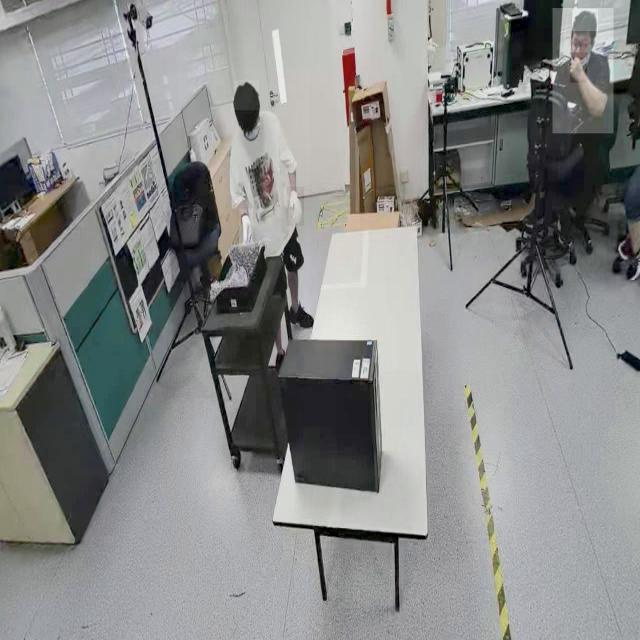hand_glove: (286, 186, 304, 226), (239, 209, 253, 254)
hand_noglove: (569, 52, 587, 84)
head_nohelmet: (233, 80, 259, 111), (572, 9, 598, 32)
person: (231, 69, 310, 332), (552, 8, 614, 134)
shoes: (285, 291, 315, 337)
